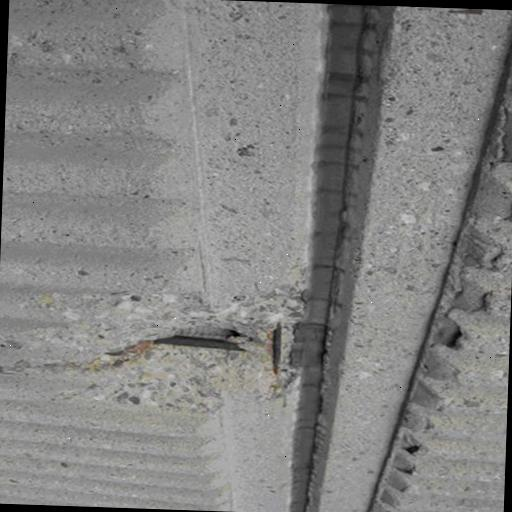spalling: (47, 292, 296, 404)
